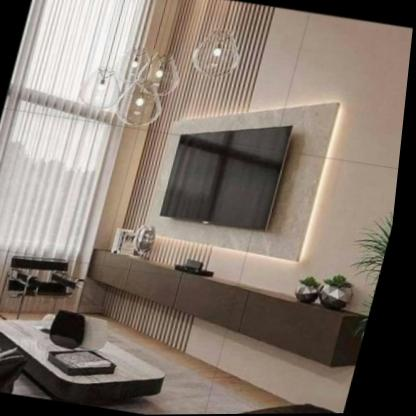Wall Panel: (106, 0, 416, 307)
Wooden floor: (108, 321, 297, 415)
